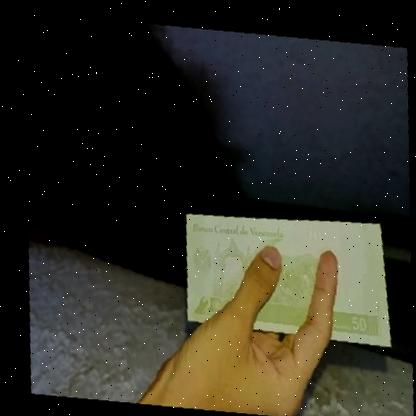fifty-back-vef: (172, 200, 389, 352)
